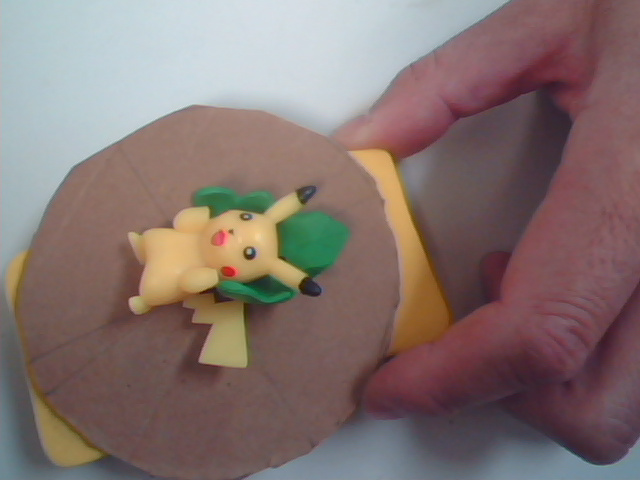pikachu: (115, 138, 368, 391)
